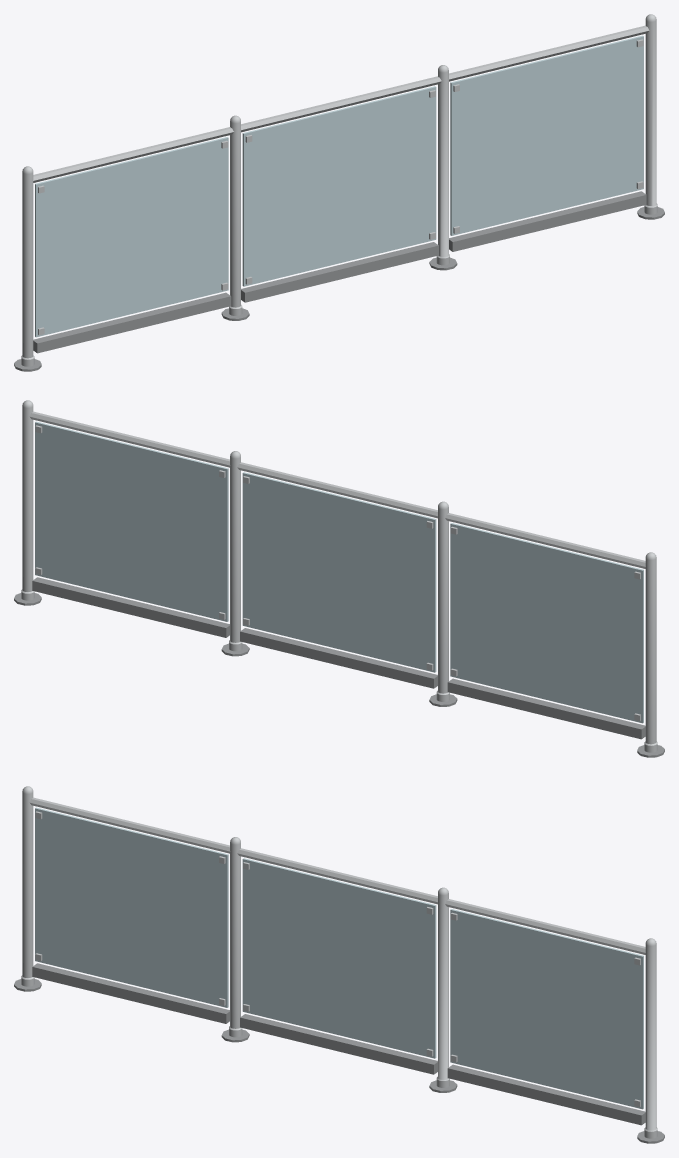
The model's file is gteki_barrier_rail_3600_glass.glb.
3 views of the same model, one above another, from view 1: azimuth 30°, elevation 25°; view 2: azimuth 150°, elevation 25°; view 3: azimuth 330°, elevation 25° (orthographic).
Parts seen in each view (by area): view 1: VIS_body; view 2: VIS_body; view 3: VIS_body.
Part boxes in pixels (x1,y1,x2,y2): VIS_body: [14, 14, 664, 371]; VIS_body: [14, 400, 664, 757]; VIS_body: [14, 786, 664, 1143].
Size of what is drawn, in the model's own units: 3.74 by 1.1 by 0.1331.
2 materials, 2 textured.
